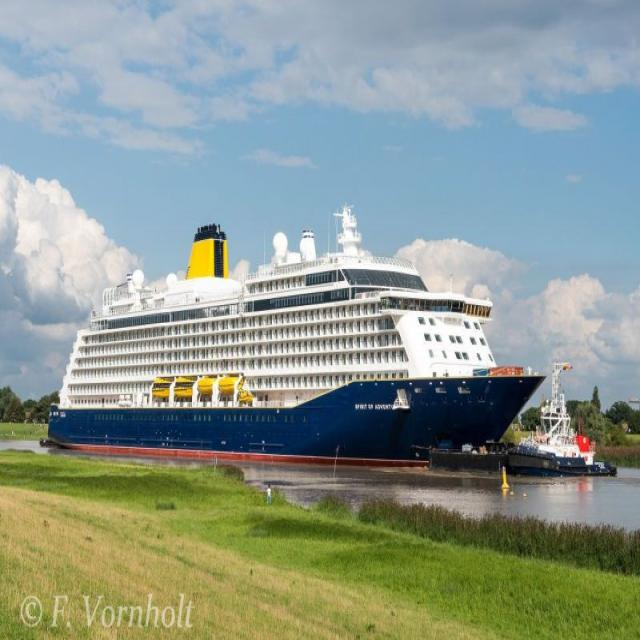cruises: (37, 200, 553, 474)
